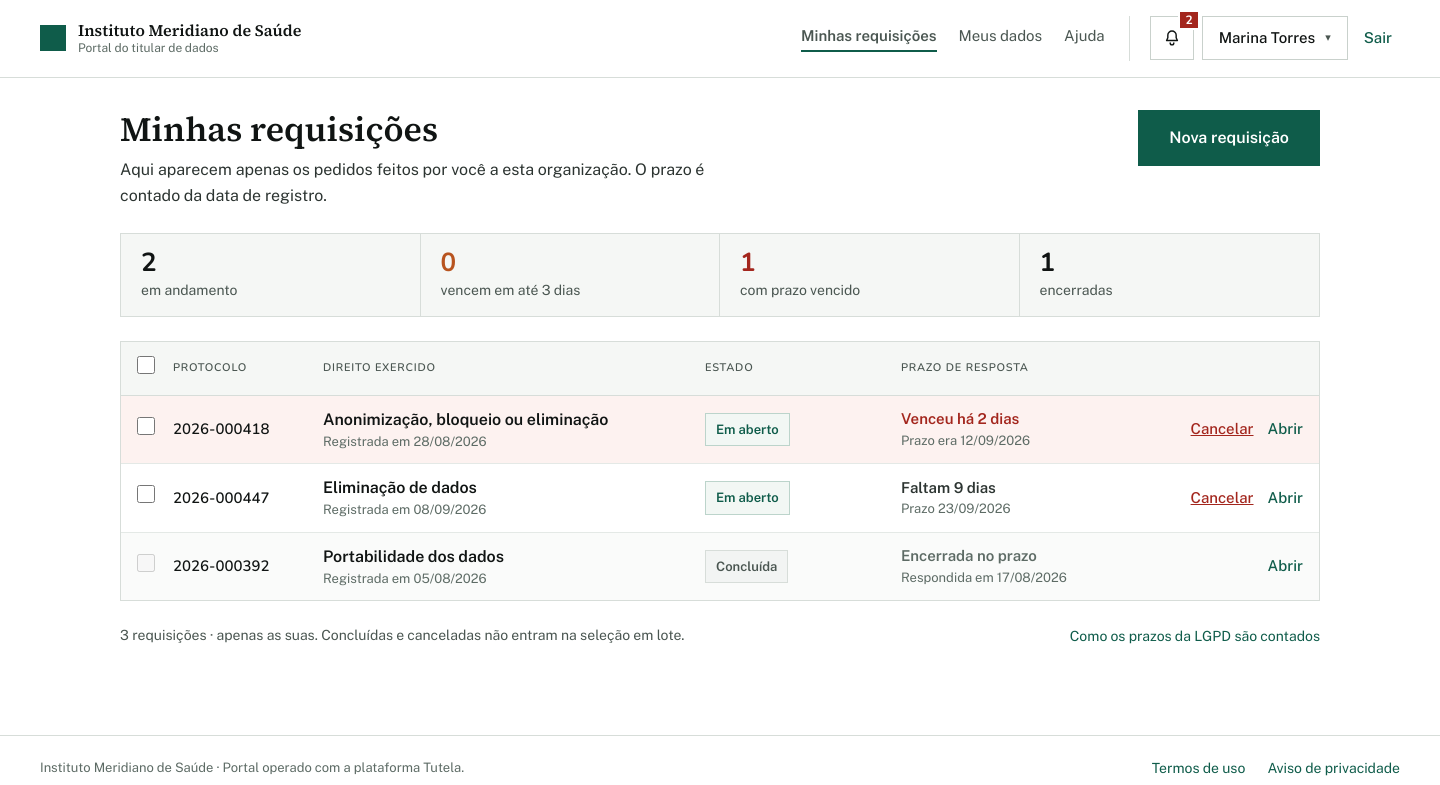
it: Notificações › o sino mostra o contador e o painel leva ao recurso, marcando como lido
Step 1. Click the button "2" → [1172, 38], box [1150,16,1194,60]
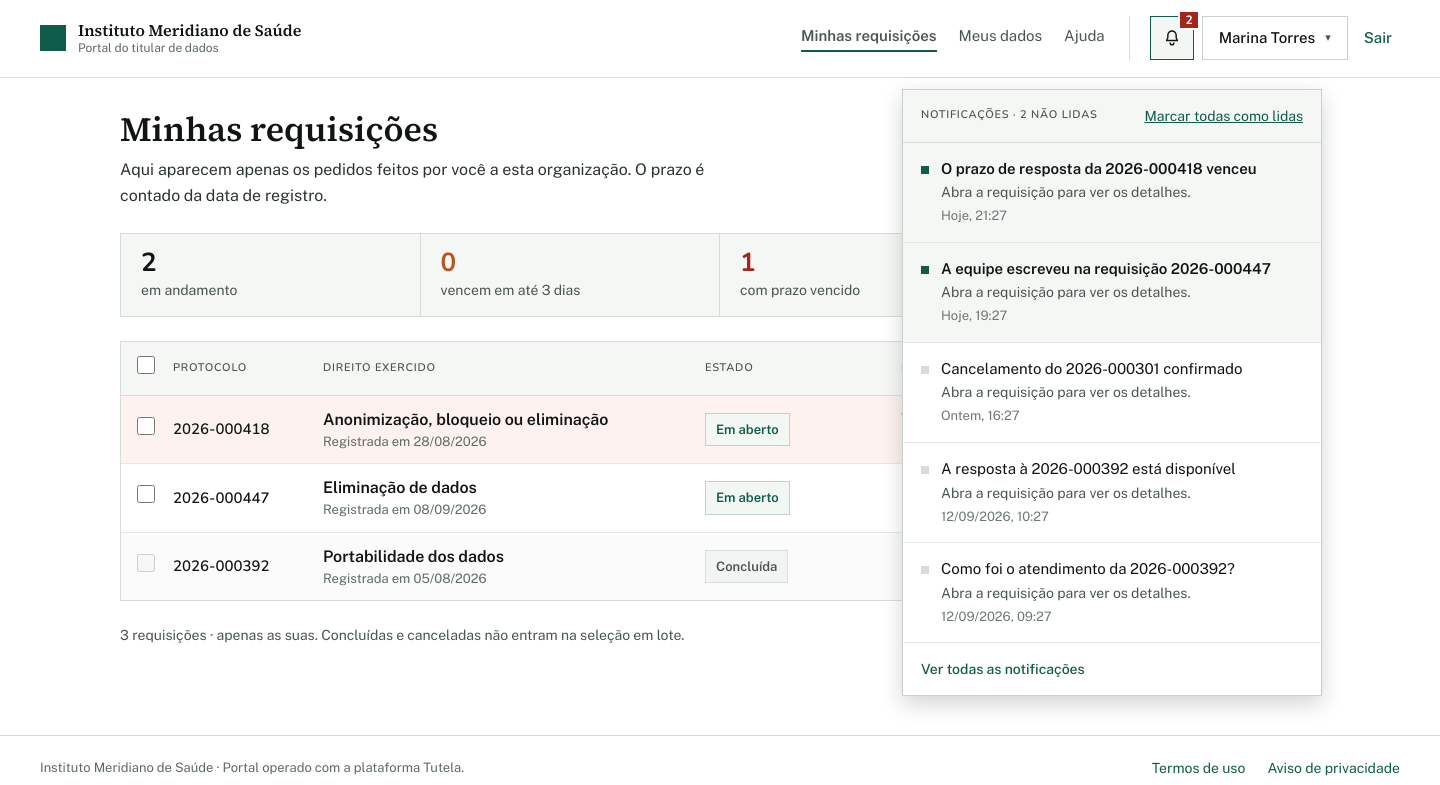
Result: the text "Notificações · 2 não lidas" is shown at [921,107,1098,124]
Step 2. Click the button "O prazo de resposta da 2026-000418 venceu" → [1112, 193], box [903,143,1321,243]
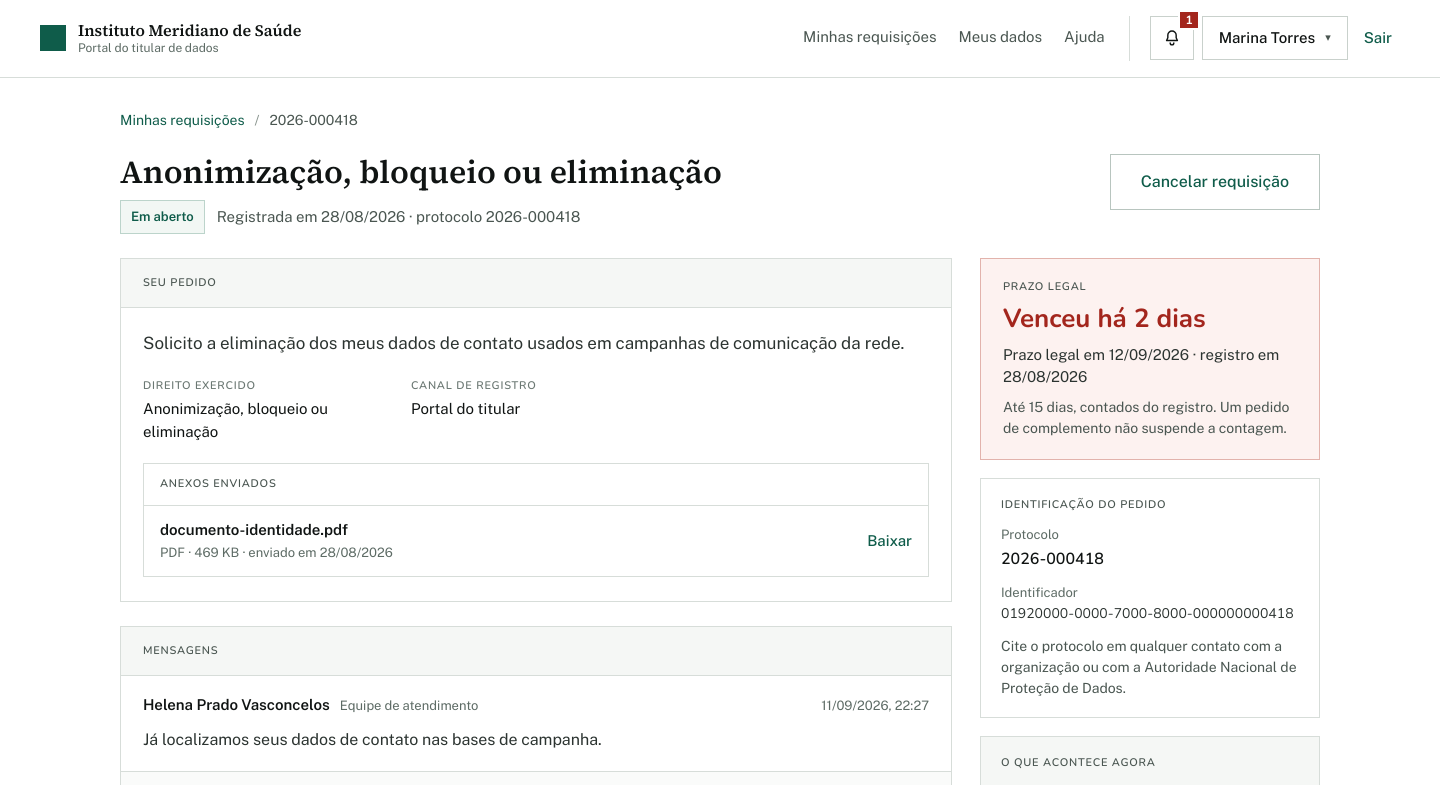
Result: the button "1" is shown at [1150,16,1194,60]
